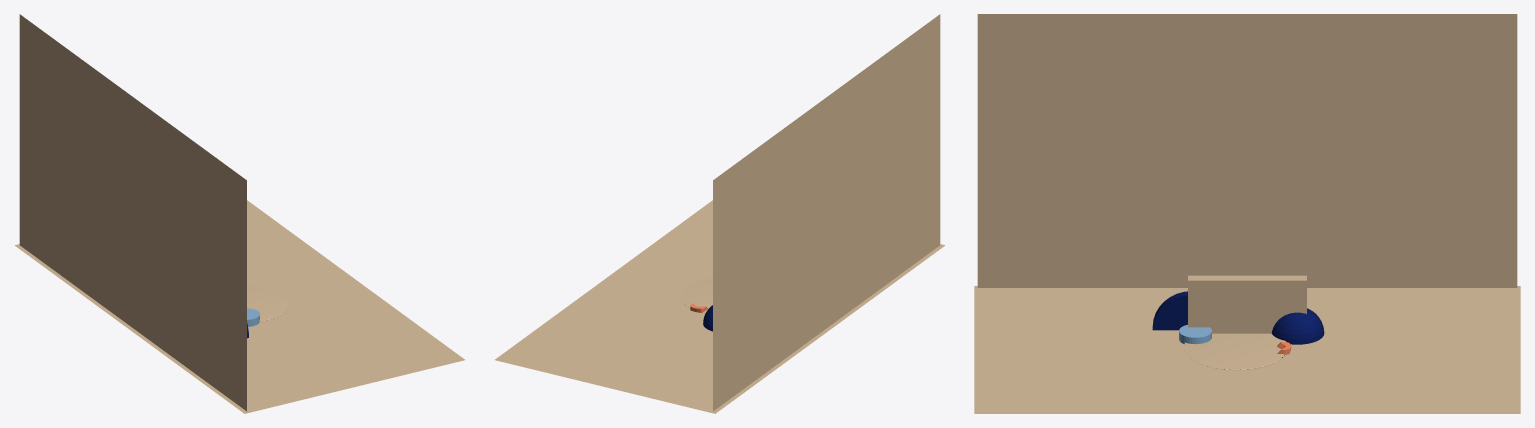
3 views of the same model, side by side, from view 1: azimuth 30°, elevation 25°; view 2: azimuth 150°, elevation 25°; view 3: azimuth 270°, elevation 25° (orthographic). The views are drawn at different scales.
Visible parts, largest first — view 1: Plane.001, Plane, Cylinder; view 2: Plane.001, Plane, Cylinder; view 3: Plane.001, Plane, Cube, Cylinder, Sphere, Cylinder.002, Cylinder.001.
Part boxes in pixels (<box>): Plane.001: <box>19,14,246,411</box>; Plane: <box>15,200,464,413</box>; Cylinder: <box>247,284,288,322</box>; Plane.001: <box>713,14,940,411</box>; Plane: <box>495,200,944,413</box>; Cylinder: <box>680,278,712,314</box>; Plane.001: <box>977,14,1517,287</box>; Plane: <box>974,286,1520,413</box>; Cube: <box>1188,275,1306,333</box>; Cylinder: <box>1184,333,1285,371</box>; Sphere: <box>1271,308,1324,344</box>; Cylinder.002: <box>1152,291,1187,330</box>; Cylinder.001: <box>1179,324,1211,344</box>.
Bounding box in the file's own units: 28.79 × 28.82 × 51.99.
